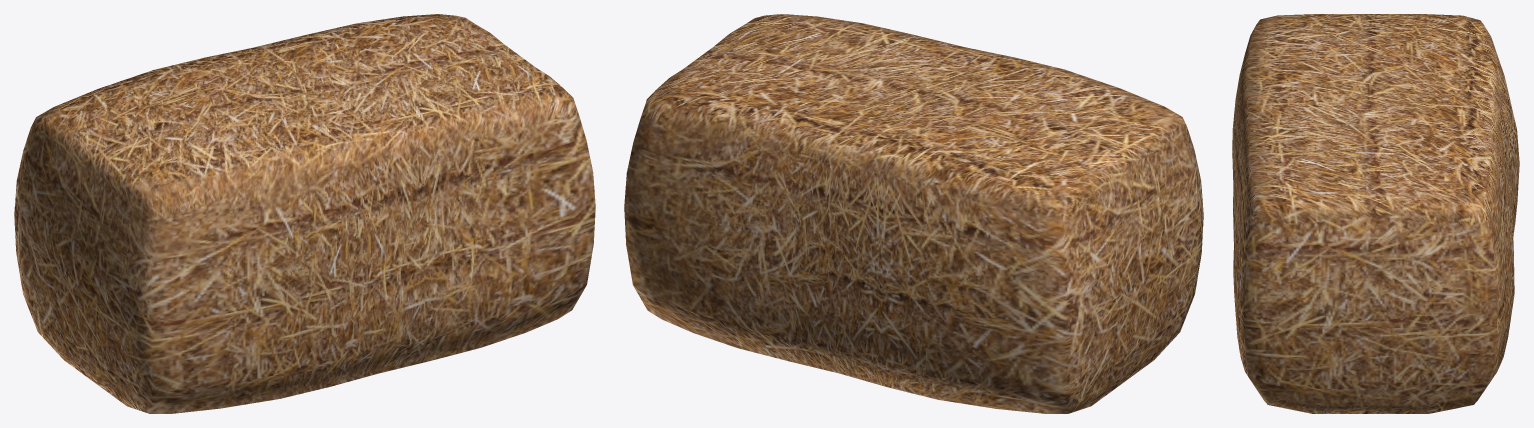
The model's file is StrawBaleSquare.fbx.
The picture shows the model from 3 angles, left to right: view 1: azimuth 30°, elevation 25°; view 2: azimuth 150°, elevation 25°; view 3: azimuth 270°, elevation 25°; orthographic projection. The views are drawn at different scales.
Visible parts, largest first — view 1: StrawBaleSquare; view 2: StrawBaleSquare; view 3: StrawBaleSquare.
Boxes of the visible parts, x1,y1,x2,y2 form: StrawBaleSquare: (14, 14, 595, 413); StrawBaleSquare: (624, 14, 1203, 413); StrawBaleSquare: (1232, 14, 1519, 413).
Size of the model in its own units: 147 by 79.16 by 86.38.
1 material, 1 textured.
